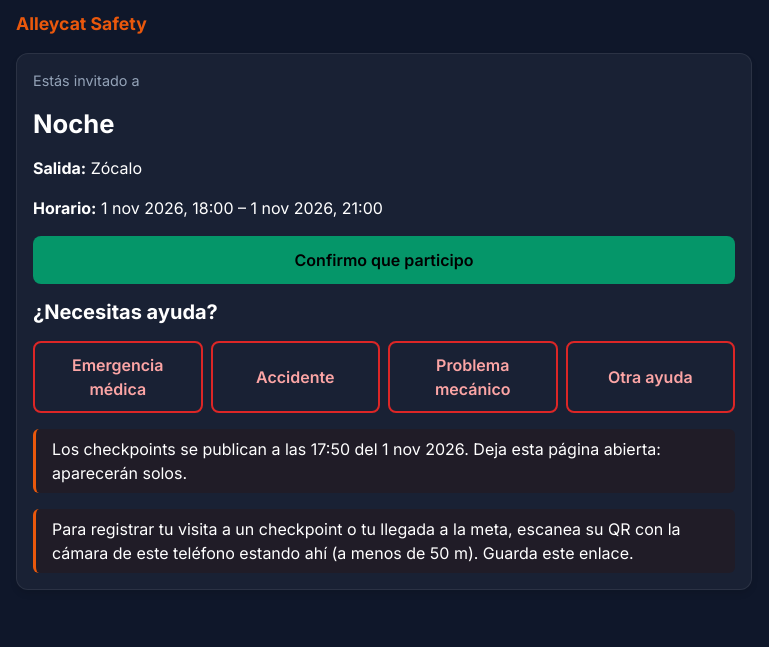
Test case: race day: checkpoint QR and help › a help button sends the kind with the position after confirmation
This screenshot has width=769, height=647.
Click the button "Problema mecánico" at coordinates (473, 377), box x1=388 y1=341 x2=558 y2=413
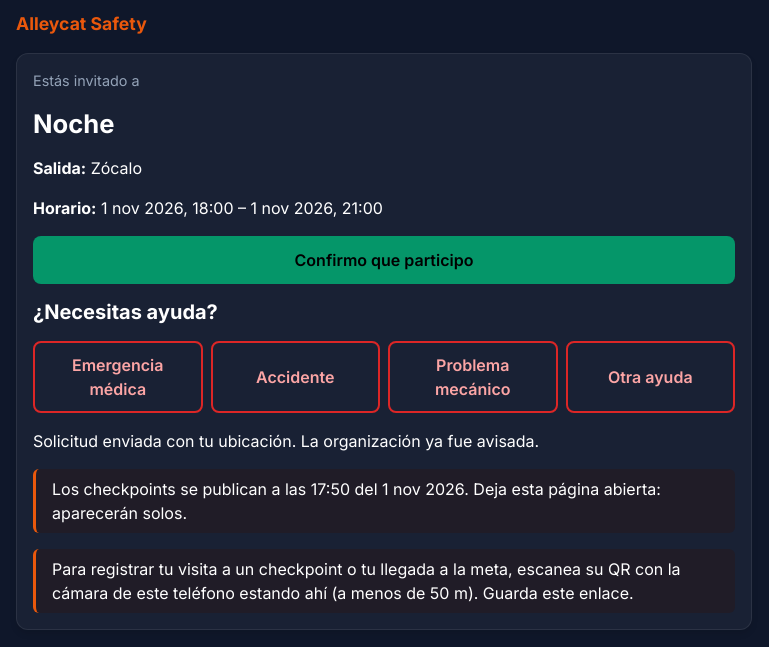
Result: the text "Solicitud enviada con tu ubicación" is shown at x1=33 y1=431 x2=539 y2=451
